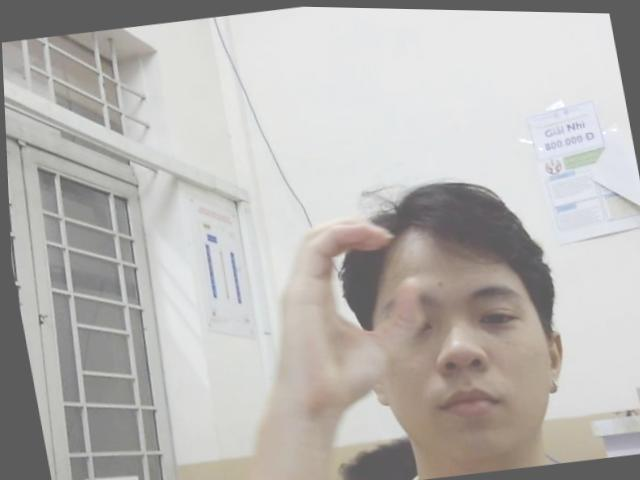C: (250, 203, 438, 413)
